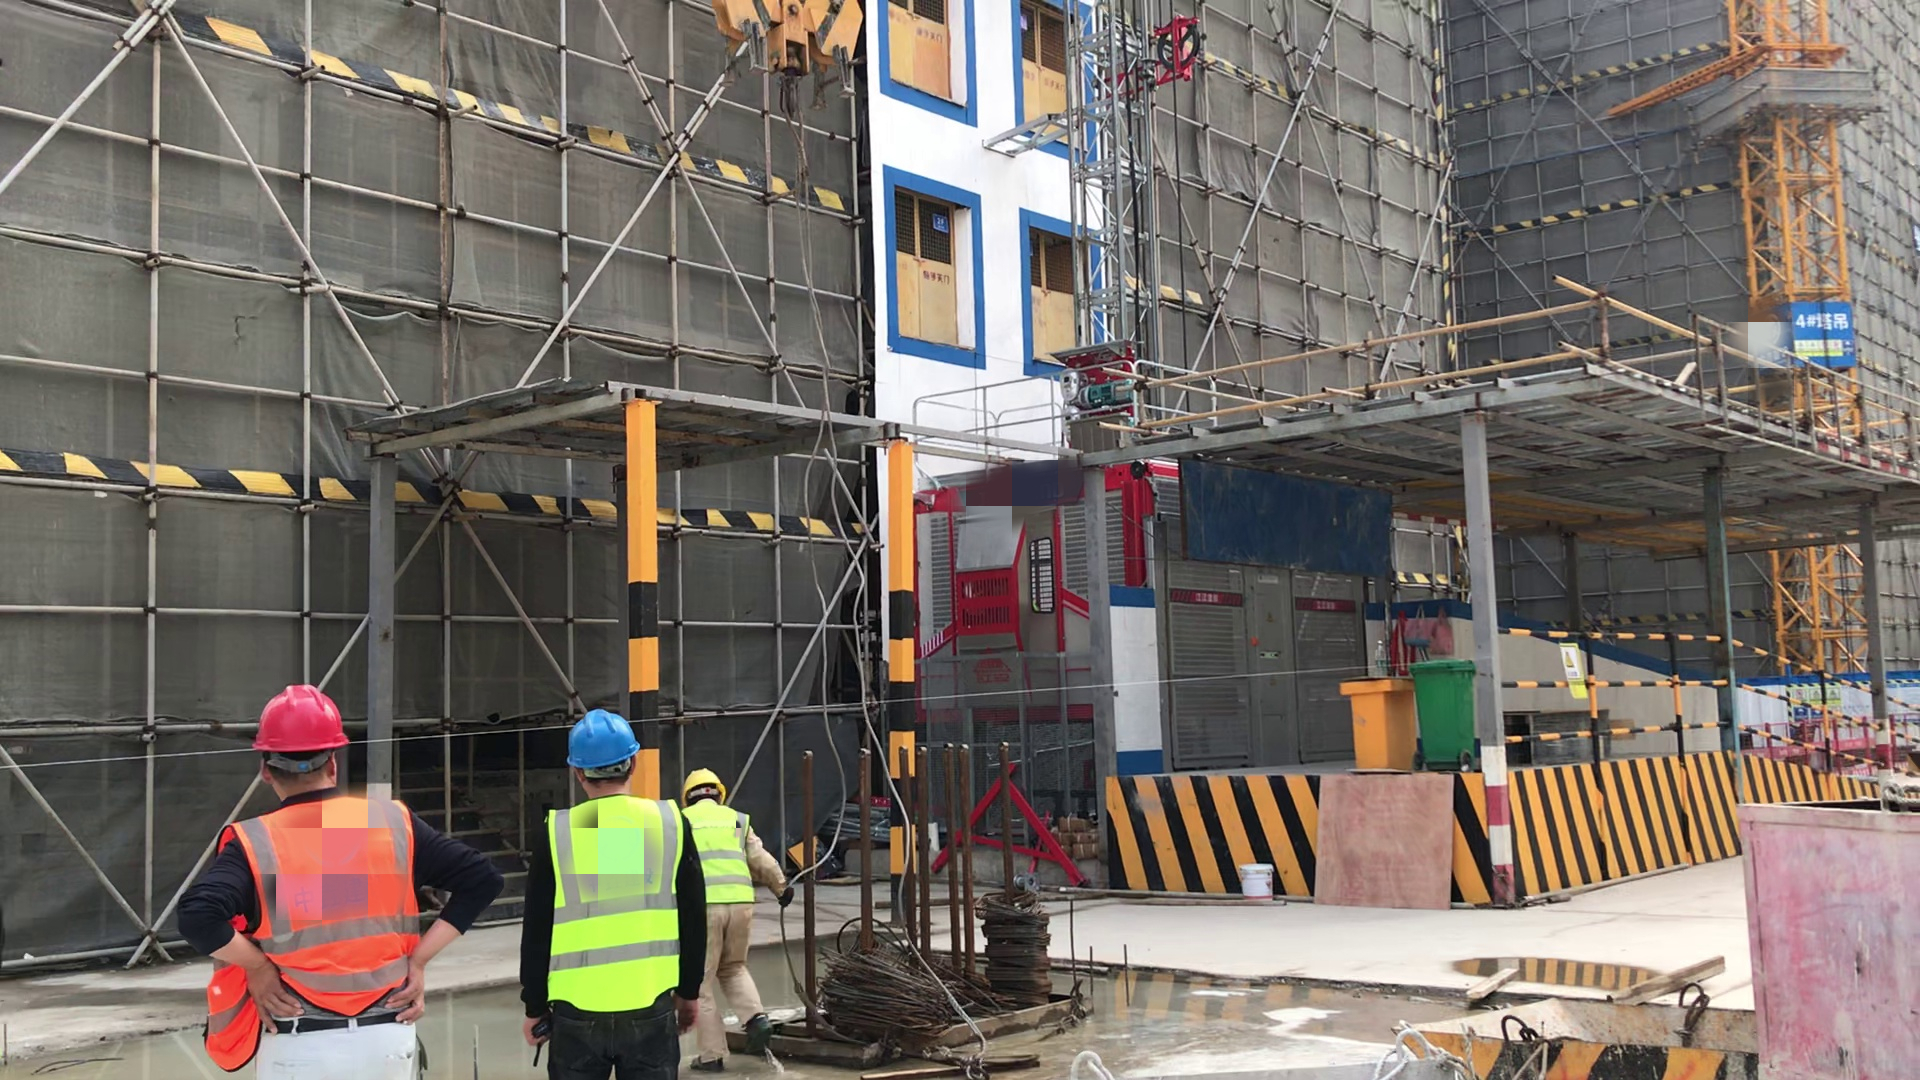fence: (1486, 599, 1920, 809)
helmet: (249, 679, 360, 755), (558, 707, 648, 765), (682, 762, 735, 809)
hook: (701, 1, 870, 145)
hopper: (1401, 972, 1778, 1080)
person: (179, 680, 518, 1080), (521, 708, 698, 1080), (678, 763, 803, 1075)
vest: (208, 792, 431, 1071), (543, 795, 690, 1014), (682, 798, 758, 918)
